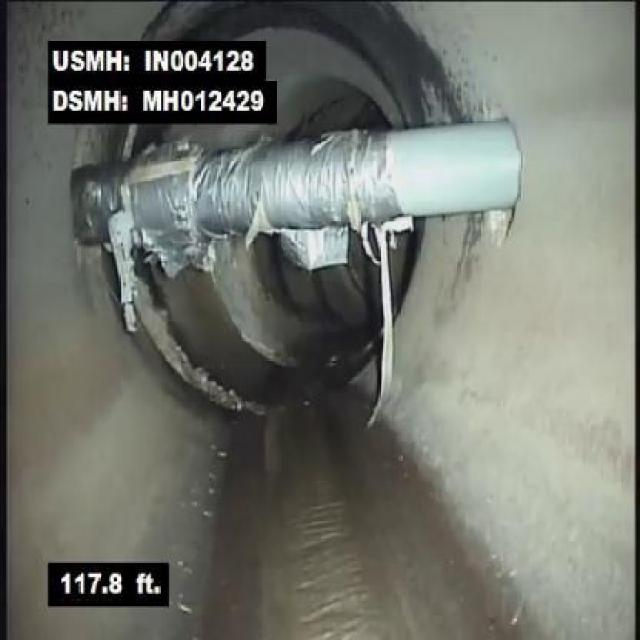Joint offset: (136, 286, 286, 446)
Utility intrusion: (70, 125, 528, 260)
